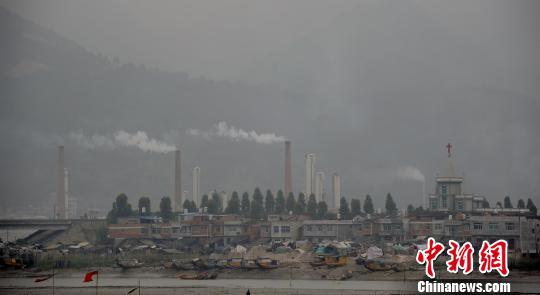dust: (107, 125, 184, 156), (217, 120, 295, 148), (396, 160, 431, 184)
